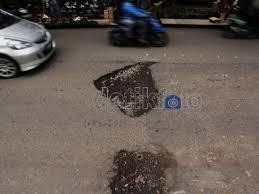Pothole: (81, 51, 183, 122), (94, 137, 187, 194)
